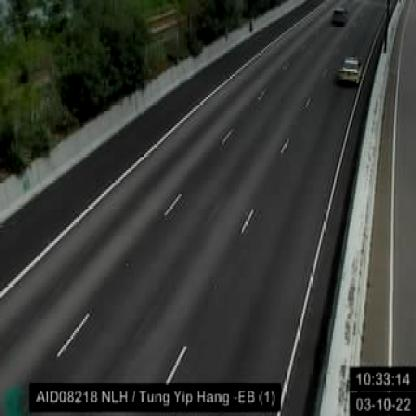Car: (338, 56, 361, 82)
